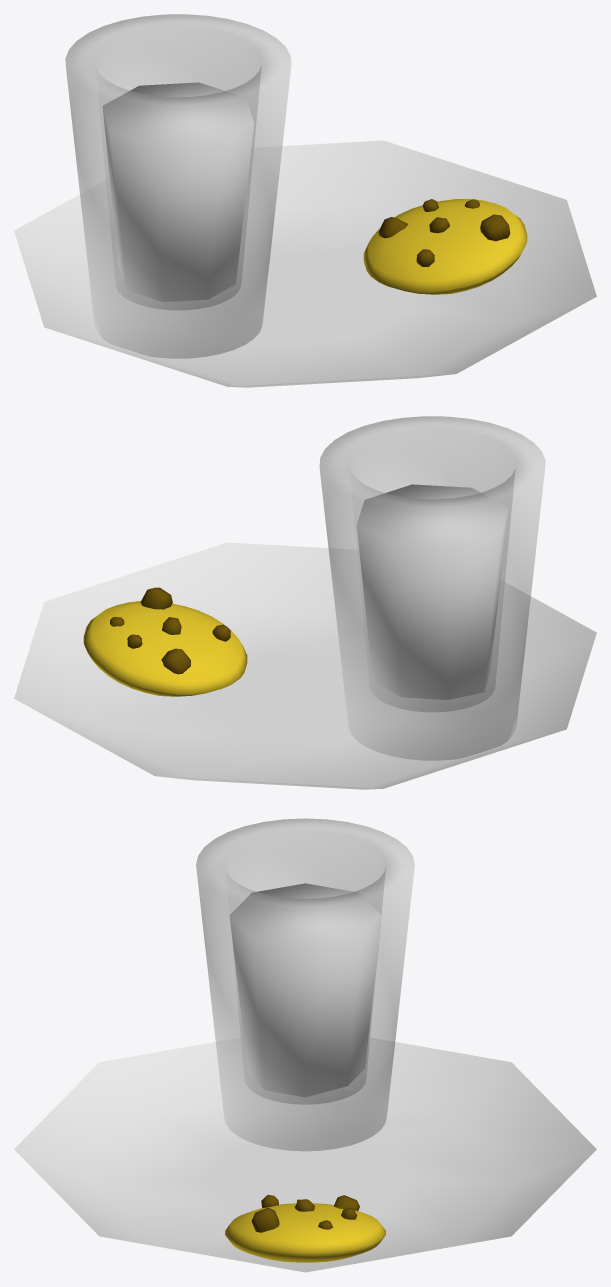
Rendered from SaveGame.fbx.
3 views of the same model, one above another, from view 1: azimuth 30°, elevation 25°; view 2: azimuth 150°, elevation 25°; view 3: azimuth 270°, elevation 25° (orthographic). The views are drawn at different scales.
Parts seen in each view (by area): view 1: Circle, Cylinder.001, Sphere, Cube.001; view 2: Circle, Cylinder.001, Sphere, Cube.001; view 3: Circle, Cylinder.001, Sphere, Cube.001.
Boxes of the visible parts, left/top/right/bottom form: Circle: left=14, top=140, right=596, bottom=387; Cylinder.001: left=65, top=14, right=291, bottom=358; Sphere: left=363, top=199, right=527, bottom=294; Cube.001: left=378, top=199, right=510, bottom=266; Circle: left=14, top=542, right=596, bottom=789; Cylinder.001: left=319, top=416, right=545, bottom=760; Sphere: left=83, top=601, right=247, bottom=696; Cube.001: left=110, top=587, right=230, bottom=674; Circle: left=14, top=1037, right=596, bottom=1272; Cylinder.001: left=196, top=818, right=414, bottom=1151; Sphere: left=225, top=1203, right=385, bottom=1262; Cube.001: left=251, top=1195, right=359, bottom=1232.
Size of the model in its own units: 716 by 363 by 716.
